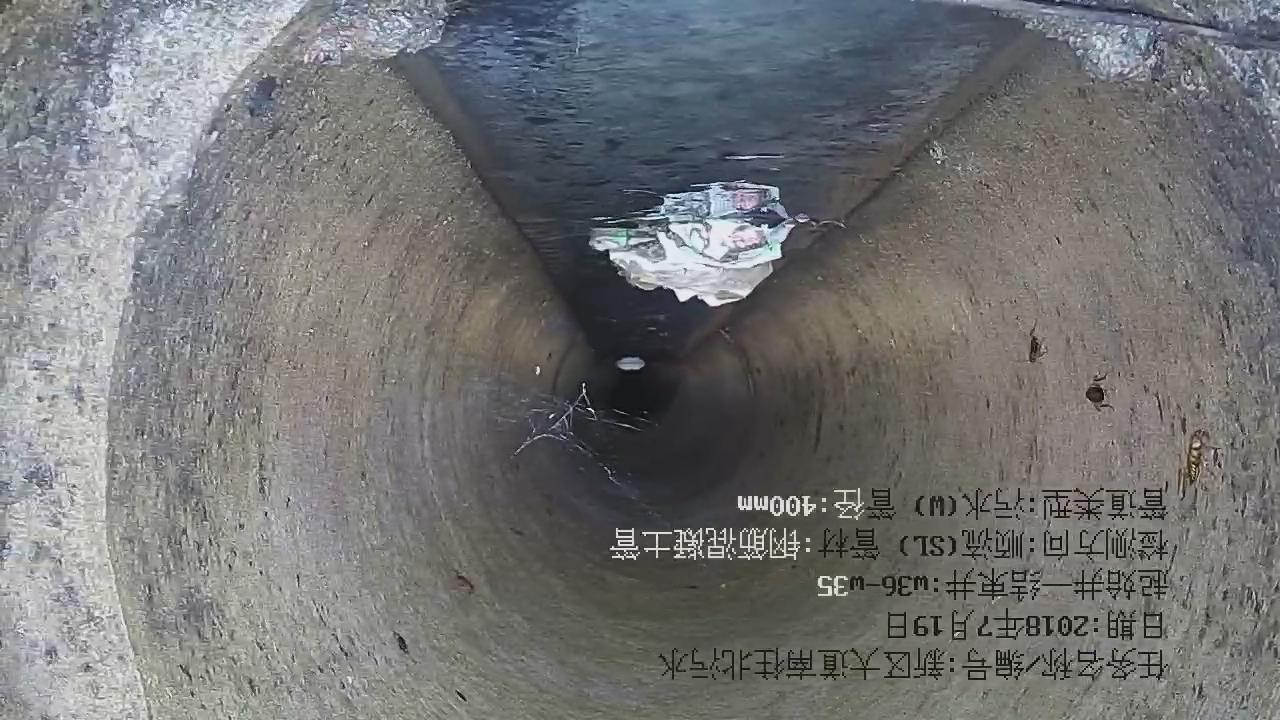ZAW: (590, 219, 797, 306)
